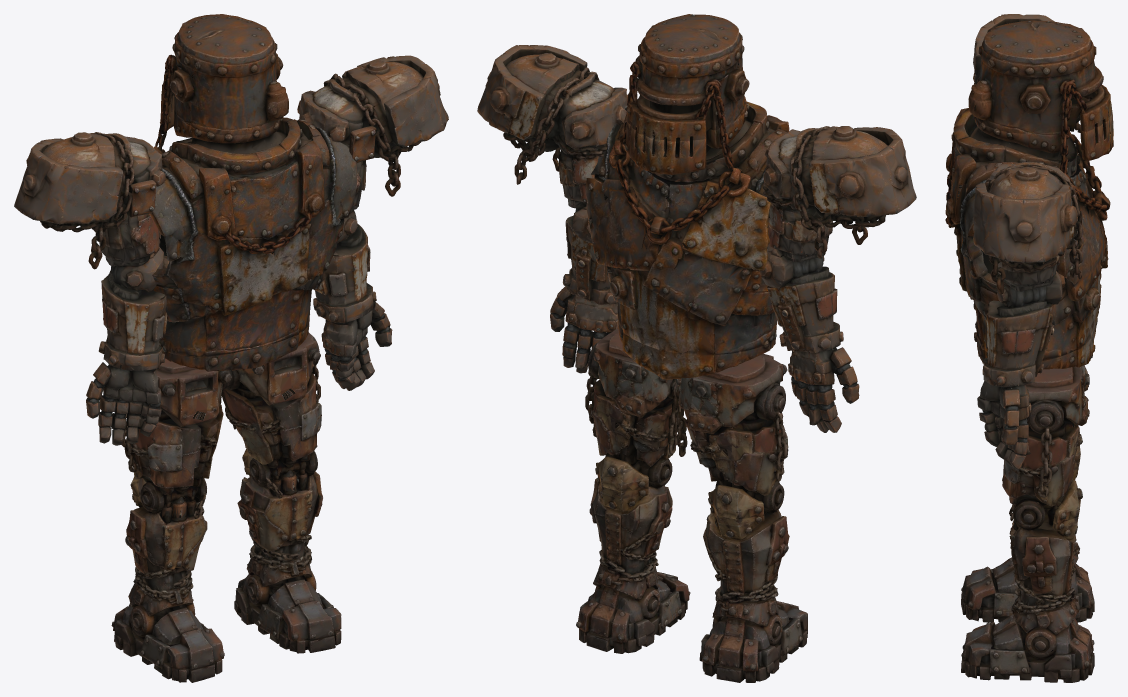
File: Gear_T02.glb
3 views of the same model, side by side, from view 1: azimuth 30°, elevation 25°; view 2: azimuth 150°, elevation 25°; view 3: azimuth 270°, elevation 25° (orthographic).
Parts seen in each view (by area): view 1: Torso_Upper, ArmL_Upper, Head, ArmR_Upper, LegR_Upper, LegL_Upper, LegL_Foot, LegR_Foot, ArmL_Lower, LegR_Lower, LegL_Lower, ArmR_Lower (+3 smaller); view 2: Torso_Upper, ArmL_Upper, ArmR_Upper, LegL_Upper, Head, LegR_Upper, LegR_Foot, LegL_Foot, ArmL_Lower, LegL_Lower, LegR_Lower, ArmL_Hand (+3 smaller); view 3: Torso_Upper, Head, ArmR_Upper, LegR_Upper, LegR_Foot, ArmR_Lower, LegR_Lower, LegL_Foot, ArmR_Hand, ArmL_Upper, Torso_Lower.
Part boxes in pixels (x1=…): Torso_Upper: x1=149, y1=95, x2=356, y2=357; ArmL_Upper: x1=14, y1=132, x2=165, y2=269; Head: x1=161, y1=14, x2=288, y2=136; ArmR_Upper: x1=297, y1=55, x2=448, y2=209; LegR_Upper: x1=219, y1=332, x2=321, y2=483; LegL_Upper: x1=121, y1=359, x2=231, y2=510; LegL_Foot: x1=111, y1=578, x2=224, y2=682; LegR_Foot: x1=234, y1=545, x2=341, y2=653; ArmL_Lower: x1=95, y1=247, x2=169, y2=376; LegR_Lower: x1=237, y1=467, x2=322, y2=563; LegL_Lower: x1=125, y1=494, x2=207, y2=592; ArmR_Lower: x1=313, y1=204, x2=382, y2=325; Torso_Upper: x1=585, y1=101, x2=789, y2=355; ArmL_Upper: x1=763, y1=126, x2=916, y2=259; ArmR_Upper: x1=477, y1=45, x2=627, y2=209; LegL_Upper: x1=672, y1=354, x2=788, y2=519; Head: x1=626, y1=14, x2=749, y2=141; LegR_Upper: x1=585, y1=329, x2=684, y2=491; LegR_Foot: x1=576, y1=558, x2=690, y2=653; LegL_Foot: x1=699, y1=587, x2=807, y2=682; ArmL_Lower: x1=759, y1=252, x2=849, y2=361; LegL_Lower: x1=703, y1=502, x2=789, y2=602; LegR_Lower: x1=589, y1=476, x2=672, y2=575; ArmL_Hand: x1=788, y1=350, x2=859, y2=432; Torso_Upper: x1=945, y1=97, x2=1113, y2=360; Head: x1=968, y1=20, x2=1112, y2=136; ArmR_Upper: x1=973, y1=161, x2=1082, y2=294; LegR_Upper: x1=1002, y1=366, x2=1089, y2=524; LegR_Foot: x1=961, y1=592, x2=1094, y2=682; ArmR_Lower: x1=982, y1=271, x2=1065, y2=401; LegR_Lower: x1=1009, y1=502, x2=1078, y2=610; LegL_Foot: x1=961, y1=542, x2=1094, y2=622; ArmR_Hand: x1=977, y1=381, x2=1031, y2=469; ArmL_Upper: x1=973, y1=14, x2=1080, y2=132; Torso_Lower: x1=974, y1=322, x2=1095, y2=369.
Size of the model in its own units: 4.5 by 6.25 by 1.57.
Materials: 3 (3 with a texture image).
